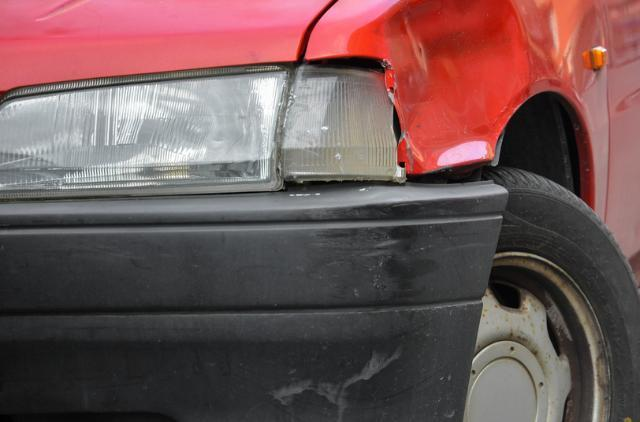Fender: (312, 0, 566, 166)
